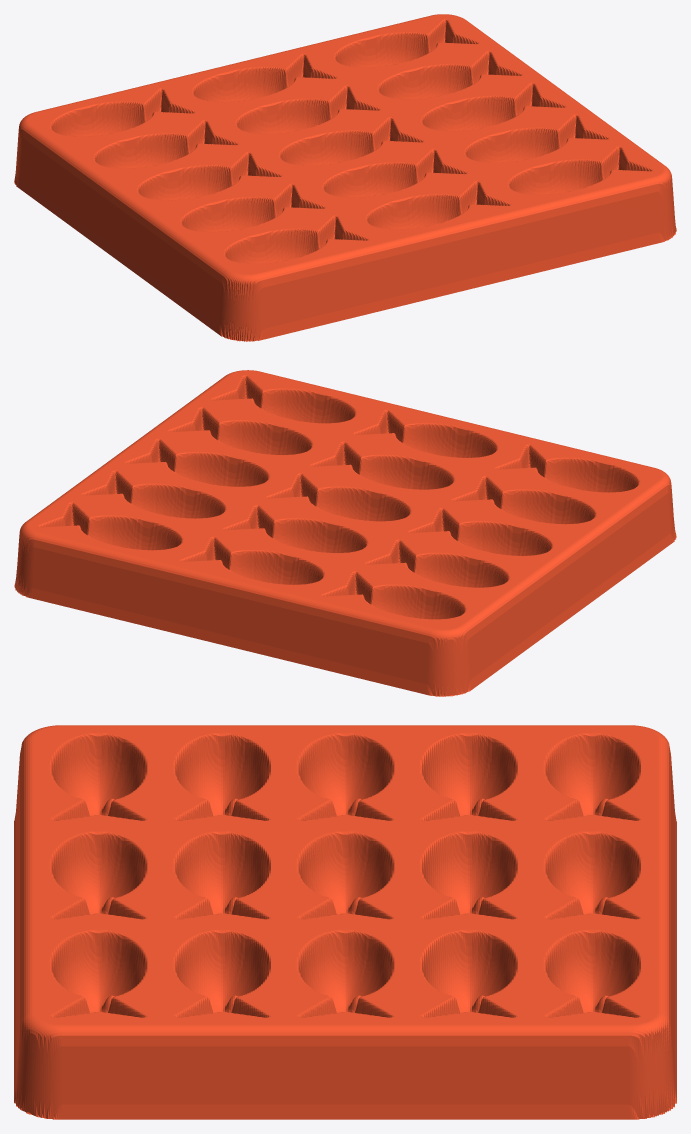
File: mold.glb
3 renders of one model, top to bottom at view 1: azimuth 30°, elevation 25°; view 2: azimuth 150°, elevation 25°; view 3: azimuth 270°, elevation 25°, orthographic. The views are drawn at different scales.
Parts seen in each view (by area): view 1: geometry_0; view 2: geometry_0; view 3: geometry_0.
Boxes of the visible parts, x1,y1,x2,y2 form: geometry_0: [14, 14, 676, 341]; geometry_0: [14, 370, 676, 696]; geometry_0: [14, 725, 676, 1119].
Size of the model in its own units: 0.1415 by 0.0182 by 0.1259.
